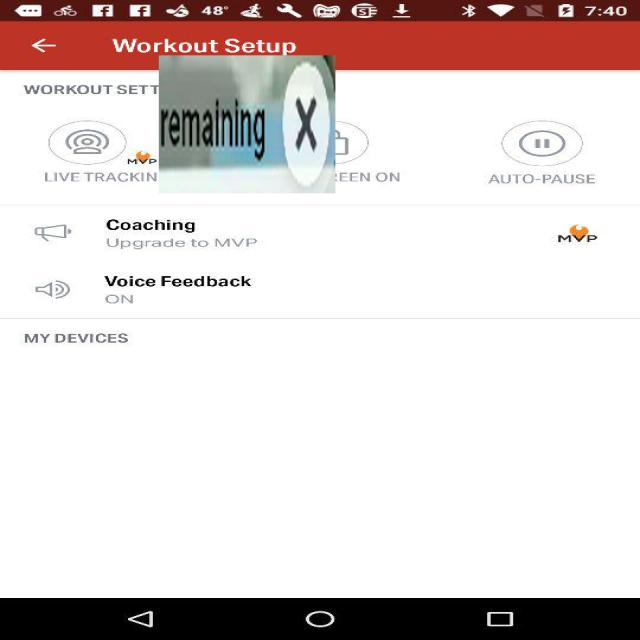misdirection: (159, 55, 335, 194)
